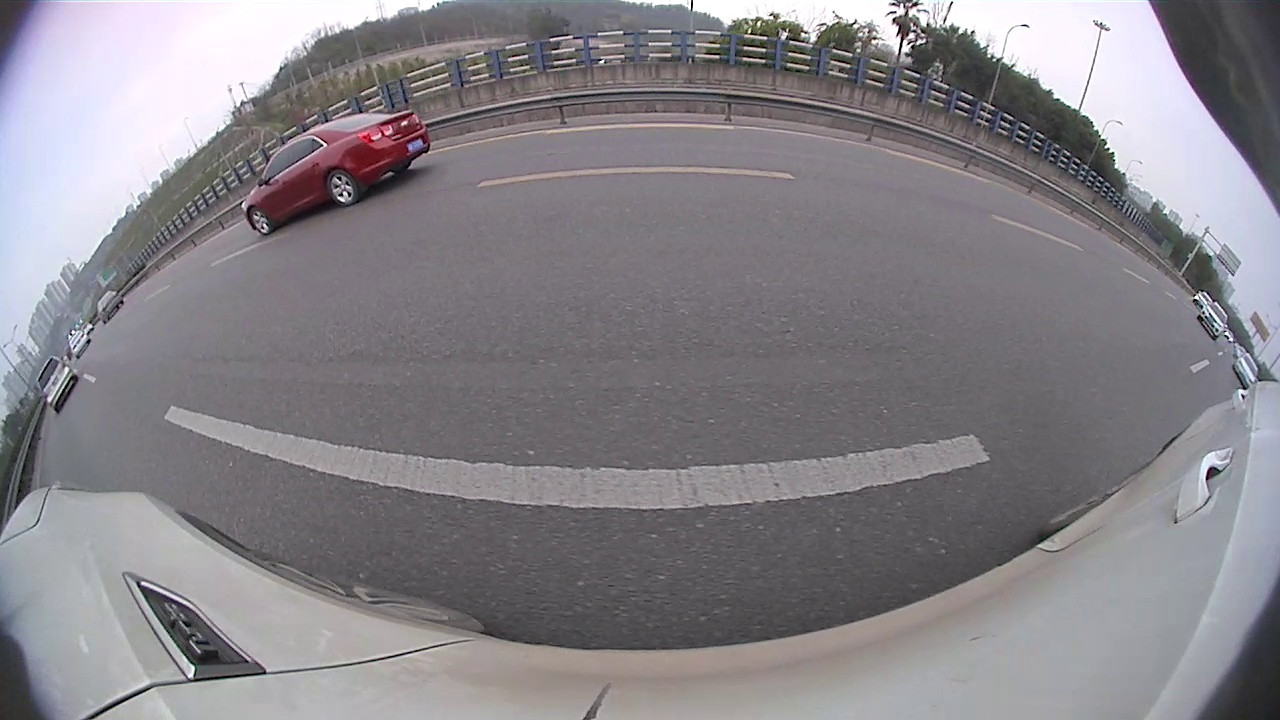car: (240, 109, 430, 237), (36, 355, 78, 416), (1196, 301, 1230, 342), (94, 289, 125, 325), (1232, 352, 1259, 390), (66, 328, 92, 355), (1191, 289, 1214, 311)
front: (248, 207, 272, 236)
rear: (328, 171, 359, 207)
